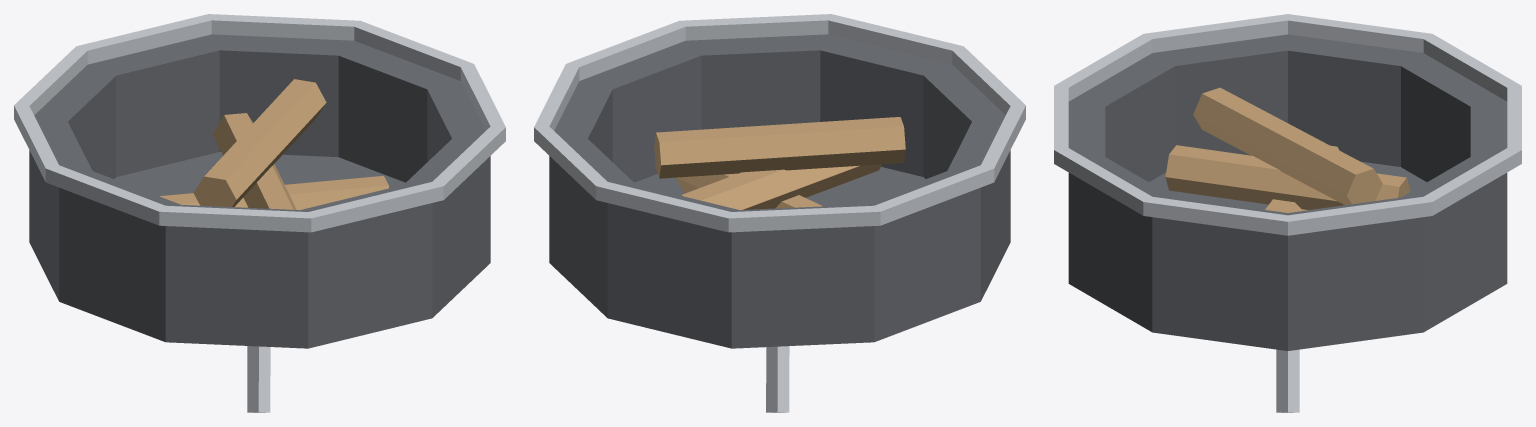
The model's file is ski-resort-and-snow-park-fire-pit-1c08ca20.glb.
The picture shows the model from 3 angles, left to right: view 1: azimuth 30°, elevation 25°; view 2: azimuth 150°, elevation 25°; view 3: azimuth 270°, elevation 25°; orthographic projection.
Parts seen in each view (by area): view 1: fire-pit; view 2: fire-pit; view 3: fire-pit.
Boxes of the visible parts, x1,y1,x2,y2 form: fire-pit: [14, 14, 505, 412]; fire-pit: [534, 14, 1025, 412]; fire-pit: [1054, 14, 1521, 412].
Size of the model in its own units: 1.28 by 0.6033 by 1.22.
